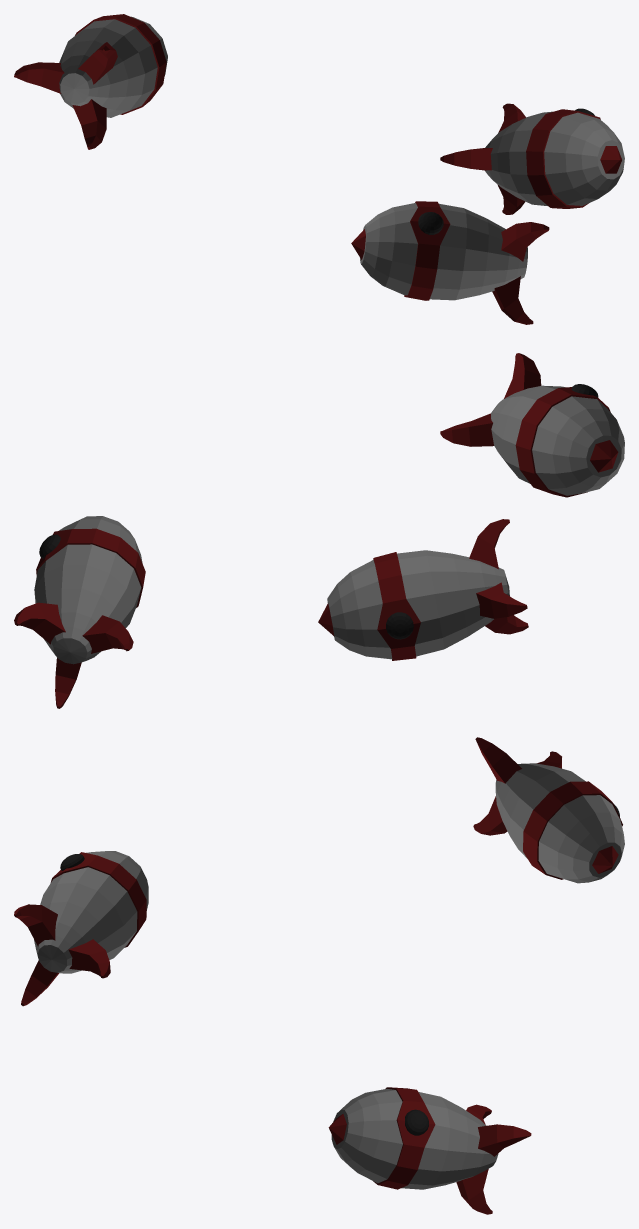
The model's file is Mars_planet_rocket_003.FBX.
3 renders of one model, top to bottom at view 1: azimuth 30°, elevation 25°; view 2: azimuth 150°, elevation 25°; view 3: azimuth 270°, elevation 25°, orthographic. The views are drawn at different scales.
Visible parts, largest first — view 1: 009_MARS PLANET_rocket; view 2: 009_MARS PLANET_rocket; view 3: 009_MARS PLANET_rocket.
Boxes of the visible parts, box(x1,y1,x2,y2) form: 009_MARS PLANET_rocket: box(14, 14, 624, 324); 009_MARS PLANET_rocket: box(14, 353, 624, 708); 009_MARS PLANET_rocket: box(14, 737, 624, 1214).
Bounding box in the file's own units: 9.3 × 4.6 × 9.27.
